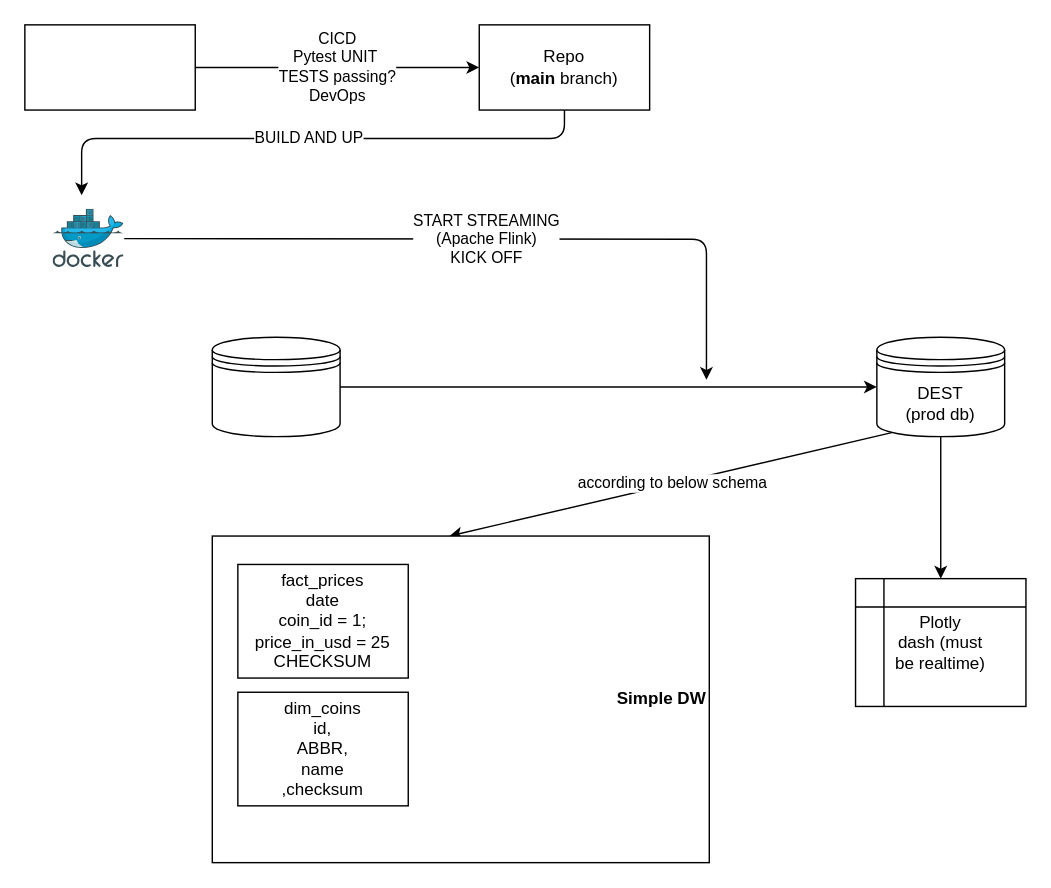
Some shapes in this 1051 by 888 pixel diagram are drawn without their labels. Here are the shapes that lost their labels. From the top down, the centre of each, then its label:
At (x=109, y=66): "Repo ( new-feature branch)".
At (x=88, y=238): "IF up".
At (x=275, y=386): "SOURCE cryptocompare".
